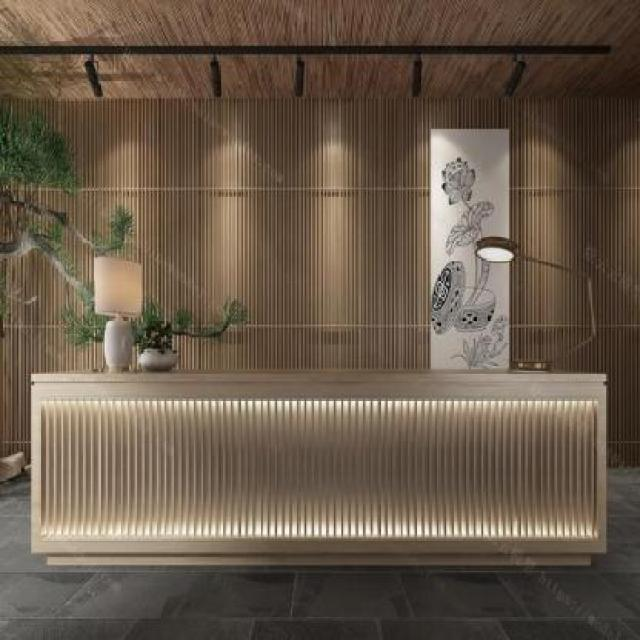frontdesk: (19, 359, 618, 583)
